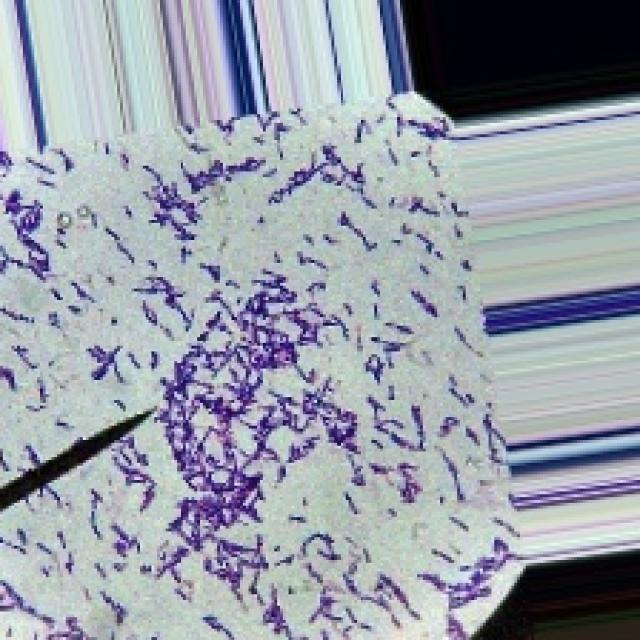Spiral_bacteria: (0, 89, 526, 637)
